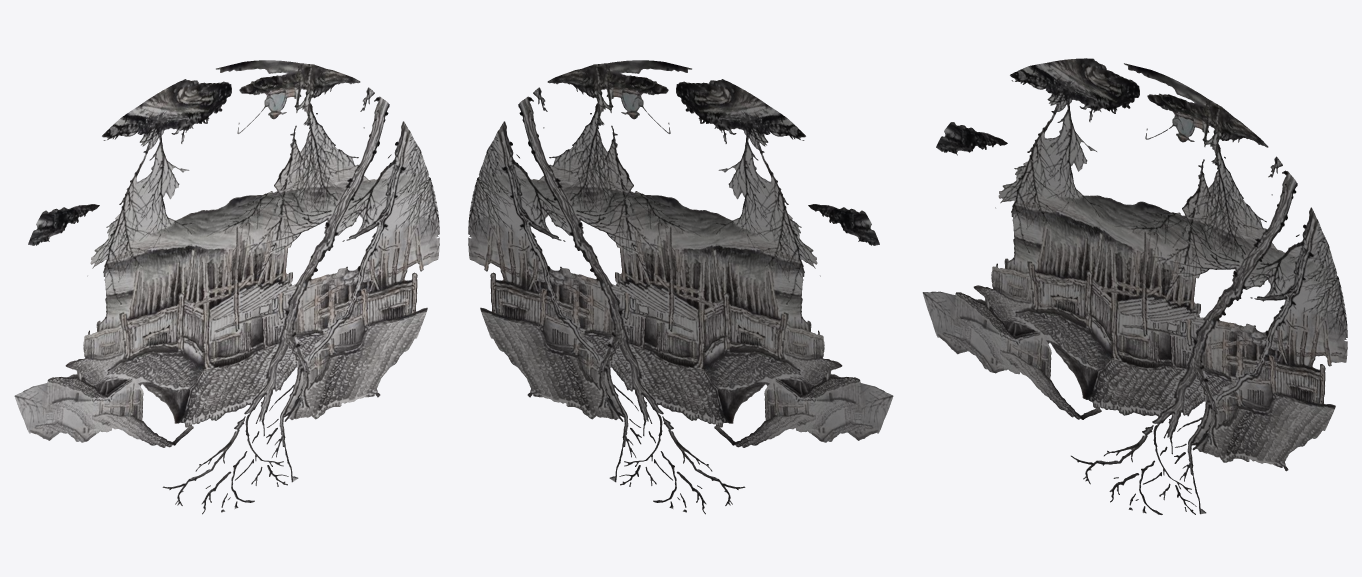
3 views of the same model, side by side, from view 1: azimuth 30°, elevation 25°; view 2: azimuth 150°, elevation 25°; view 3: azimuth 330°, elevation 25° (orthographic).
Parts seen in each view (by area): view 1: 面片002, 面片005, 面片001, 面片004, 面片003, 面片007, 面片006; view 2: 面片002, 面片005, 面片001, 面片004, 面片003, 面片007, 面片006; view 3: 面片002, 面片005, 面片001, 面片004, 面片003, 面片007, 面片006.
Boxes of the visible parts, <box> form: 面片002: <box>227,150,439,399</box>; 面片005: <box>14,190,226,442</box>; 面片001: <box>227,64,420,288</box>; 面片004: <box>118,288,226,514</box>; 面片003: <box>227,237,439,508</box>; 面片007: <box>120,60,313,202</box>; 面片006: <box>28,118,120,245</box>; 面片002: <box>468,150,680,399</box>; 面片005: <box>681,190,893,442</box>; 面片001: <box>487,64,680,288</box>; 面片004: <box>681,288,789,514</box>; 面片003: <box>468,237,680,508</box>; 面片007: <box>594,60,787,202</box>; 面片006: <box>787,118,879,245</box>; 面片002: <box>1135,244,1347,425</box>; 面片005: <box>922,151,1134,375</box>; 面片001: <box>1135,107,1328,310</box>; 面片004: <box>1026,262,1134,510</box>; 面片003: <box>1135,341,1347,514</box>; 面片007: <box>1028,58,1221,164</box>; 面片006: <box>936,66,1028,155</box>.
Bounding box in the file's own units: 5000 × 5000 × 5.96e-05.
1 material, 1 textured.
